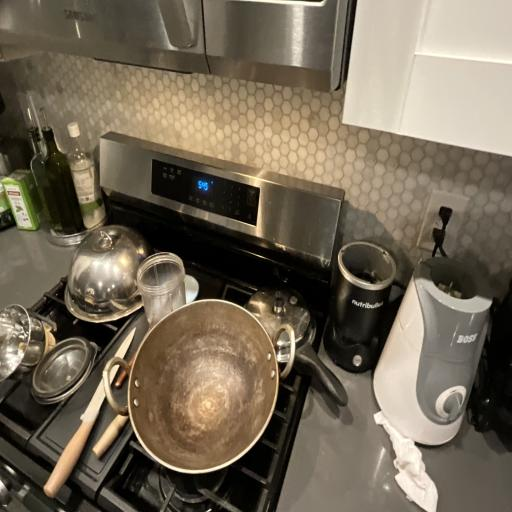Pan: (99, 258, 302, 470)
Stove: (0, 132, 345, 512)
knife: (27, 326, 144, 500)
